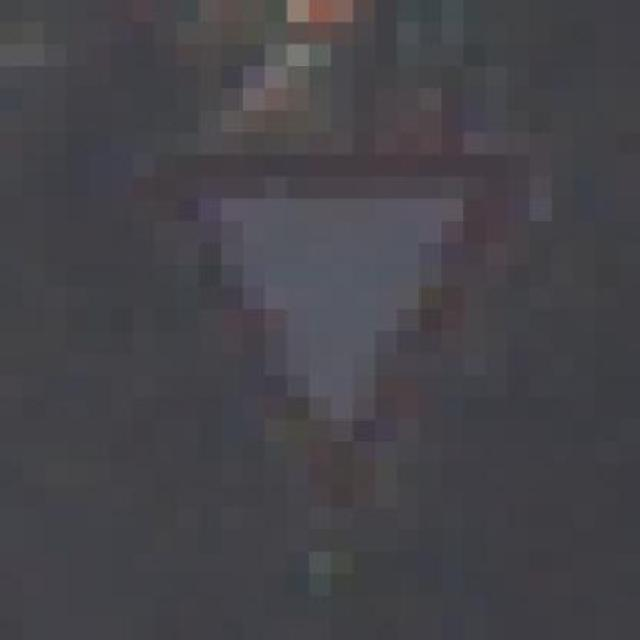Give Way: (111, 110, 574, 552)
